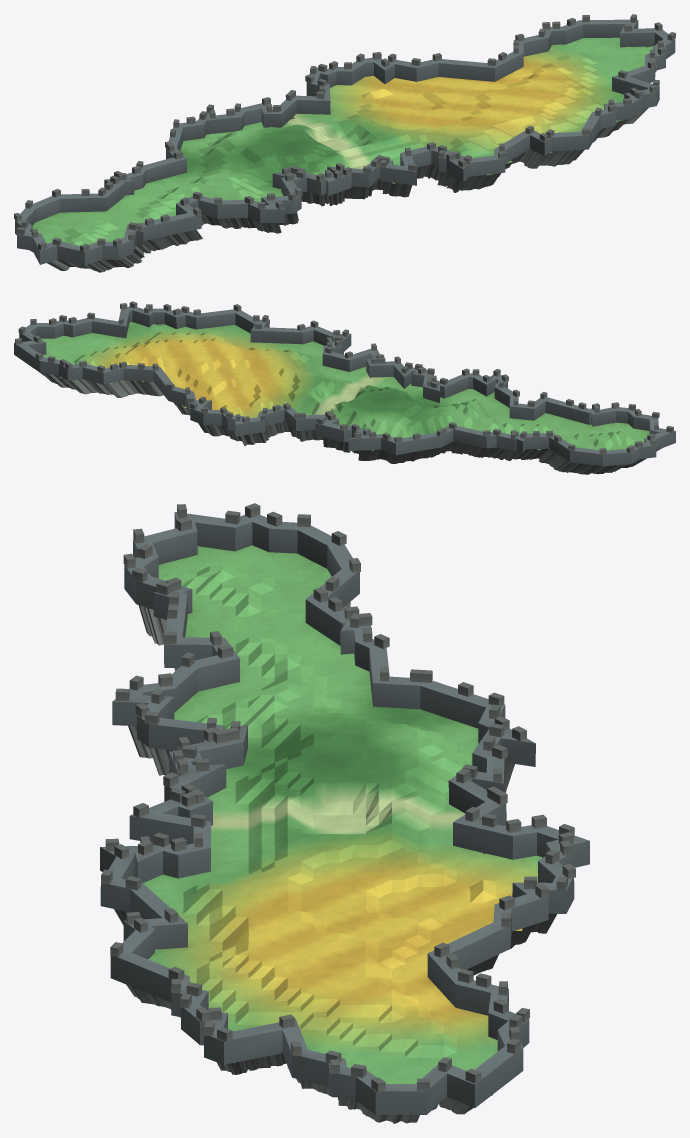
3 views of the same model, one above another, from view 1: azimuth 30°, elevation 25°; view 2: azimuth 150°, elevation 25°; view 3: azimuth 270°, elevation 25° (orthographic). The views are drawn at different scales.
Parts seen in each view (by area): view 1: ground_188c6cab; view 2: ground_188c6cab; view 3: ground_188c6cab.
Boxes of the visible parts, x1,y1,x2,y2 form: ground_188c6cab: (14, 14, 675, 272); ground_188c6cab: (14, 301, 675, 474); ground_188c6cab: (100, 503, 589, 1123).
Size of the model in its own units: 158 by 7.71 by 56.37.
2 materials, 1 textured.
